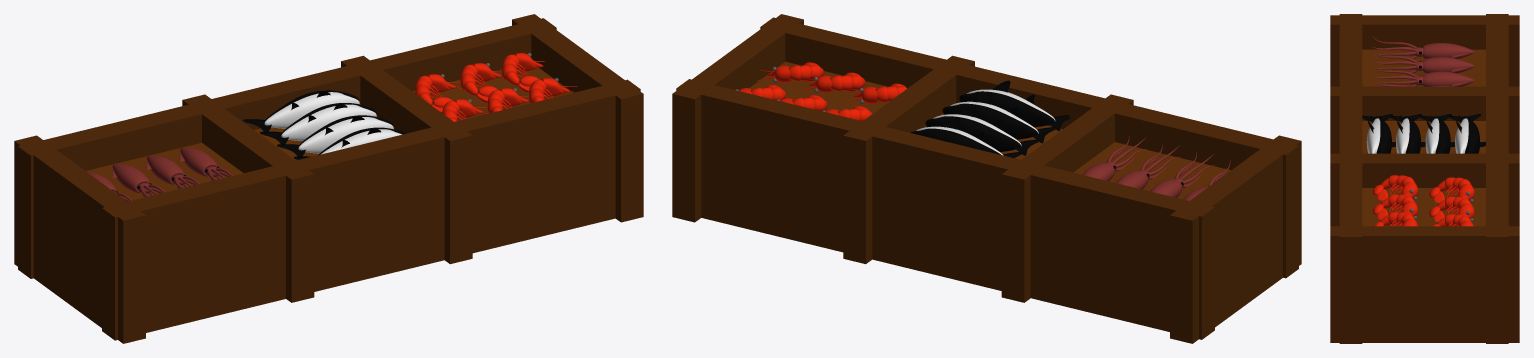
Rendered from box_cumi_ikan_udang.fbx.
3 views of the same model, side by side, from view 1: azimuth 30°, elevation 25°; view 2: azimuth 150°, elevation 25°; view 3: azimuth 270°, elevation 25° (orthographic). The views are drawn at different scales.
Visible parts, largest first — view 1: Cube.006, Cube.010, Cube.013, Cube.011, Cube.030, Cube.007, Cube.012, Cube.031, Cube.017, Cube.015, Cube.003, Cube.020 (+13 smaller); view 2: Cube.030, Cube.017, Cube.015, Cube.011, Cube.006, Cube.007, Cube.012, Cube.031, Cube.010, Cube.013, Cube.003, Cube.016 (+10 smaller); view 3: Cube.012, Cube.011, Cube.007, Cube.031, Cube.010, Cube.017, Cube.003, Cube.016, Cube.013, Cube.006, Cube.015, Cube.030 (+14 smaller).
Part boxes in pixels (x1,y1,x2,y2): Cube.006: (102, 162, 298, 340); Cube.010: (439, 79, 640, 253); Cube.013: (273, 121, 465, 299); Cube.011: (14, 135, 145, 343); Cube.030: (18, 101, 219, 278); Cube.007: (182, 94, 314, 302); Cube.012: (512, 14, 643, 222); Cube.031: (341, 55, 472, 264); Cube.017: (355, 18, 556, 91); Cube.015: (199, 59, 388, 142); Cube.003: (86, 142, 243, 200); Cube.020: (260, 103, 376, 144); Cube.030: (1014, 166, 1214, 339); Cube.017: (676, 79, 874, 252); Cube.015: (844, 120, 1046, 290); Cube.011: (1170, 135, 1301, 343); Cube.006: (1107, 99, 1298, 278); Cube.007: (1001, 94, 1133, 302); Cube.012: (672, 14, 803, 222); Cube.031: (843, 55, 974, 264); Cube.010: (760, 17, 961, 88); Cube.013: (928, 59, 1118, 142); Cube.003: (1073, 142, 1230, 199); Cube.016: (749, 61, 888, 113); Cube.012: (1330, 226, 1519, 342); Cube.011: (1330, 15, 1519, 86); Cube.007: (1330, 86, 1519, 153); Cube.031: (1330, 153, 1519, 226); Cube.010: (1339, 156, 1362, 343); Cube.017: (1486, 156, 1508, 343); Cube.003: (1362, 49, 1485, 86); Cube.016: (1362, 188, 1485, 226); Cube.013: (1339, 85, 1362, 165); Cube.006: (1339, 14, 1362, 93); Cube.015: (1486, 85, 1508, 165); Cube.030: (1486, 14, 1508, 88).
Size of the model in its own units: 1401 by 340 by 504.
